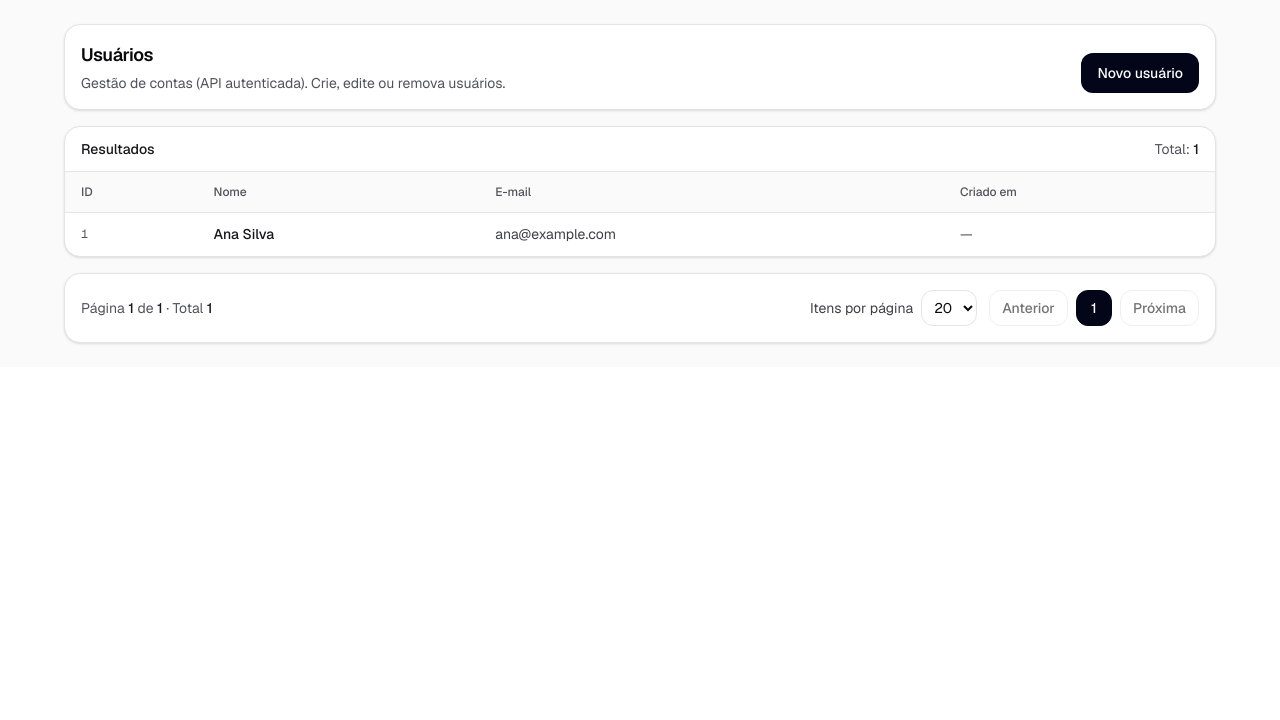
UsersPage (UI) › deve excluir usuário com confirmação
The width and height of the screenshot is (1280, 720).
Click the text "Ana Silva": (244, 234) [198,212,479,256]
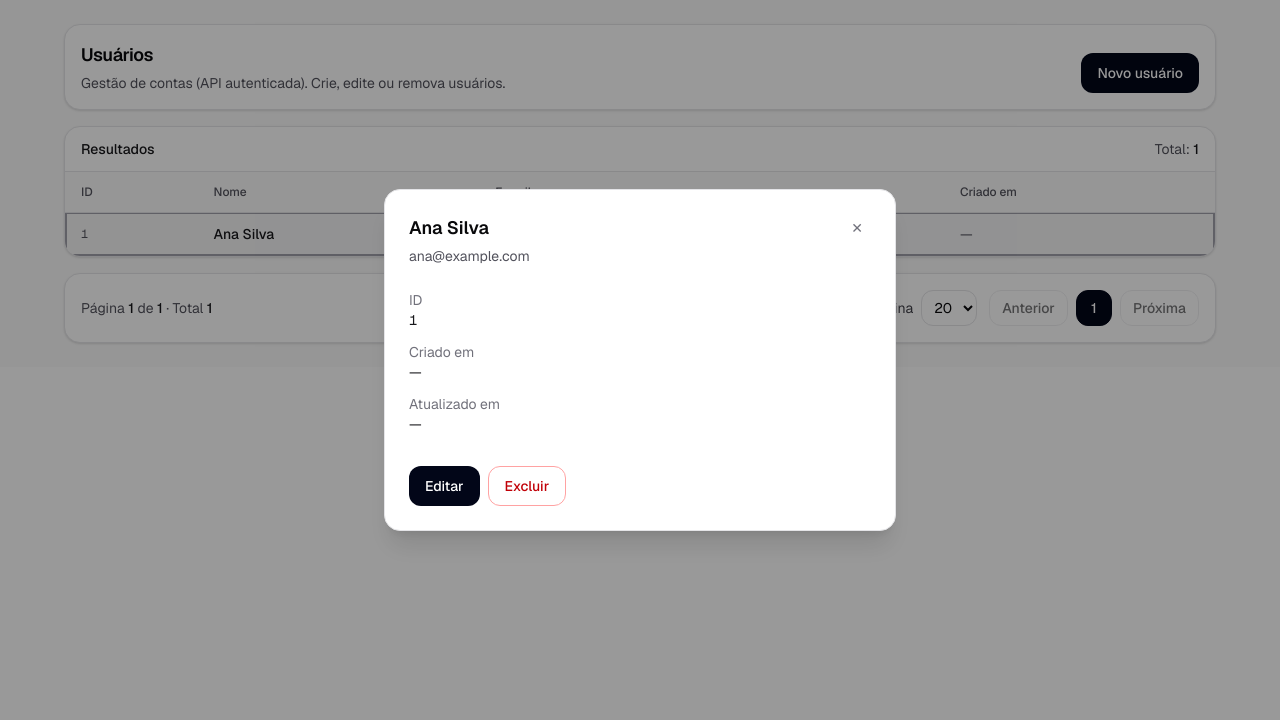
Click the button "Excluir": (527, 486) [488,466,566,506]
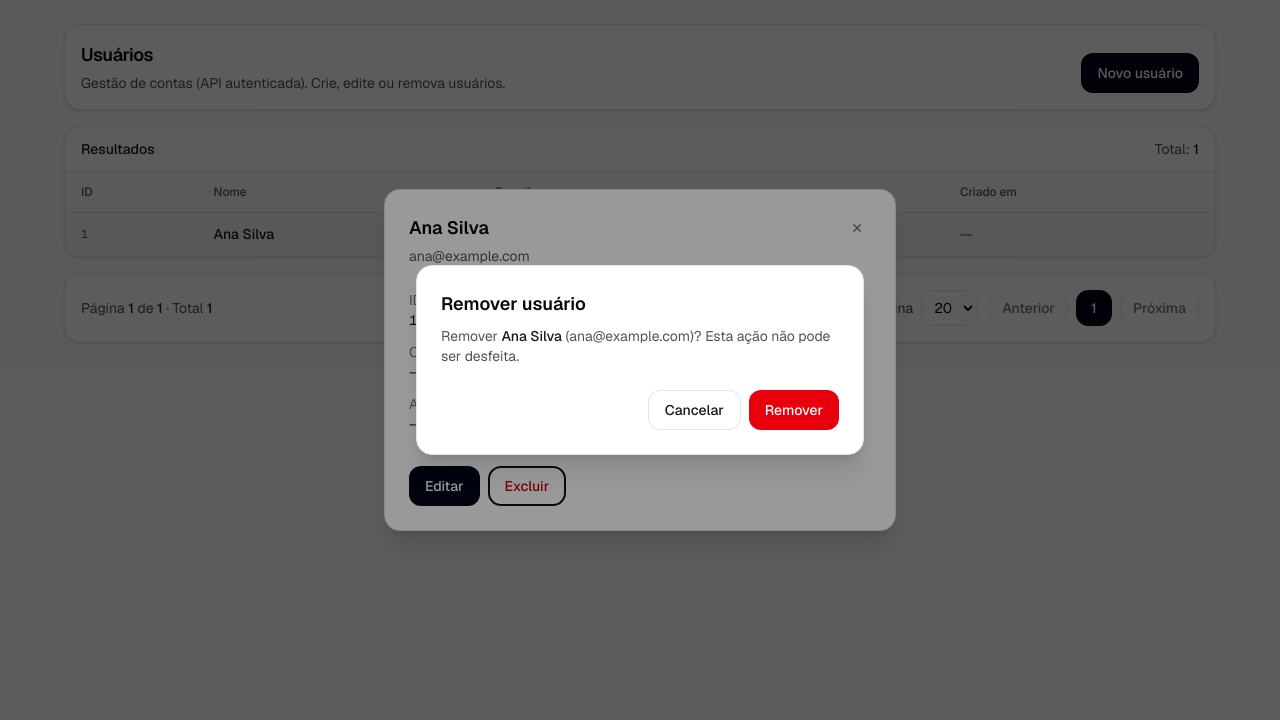
Click the button "Remover": (794, 410) [749,390,839,430]
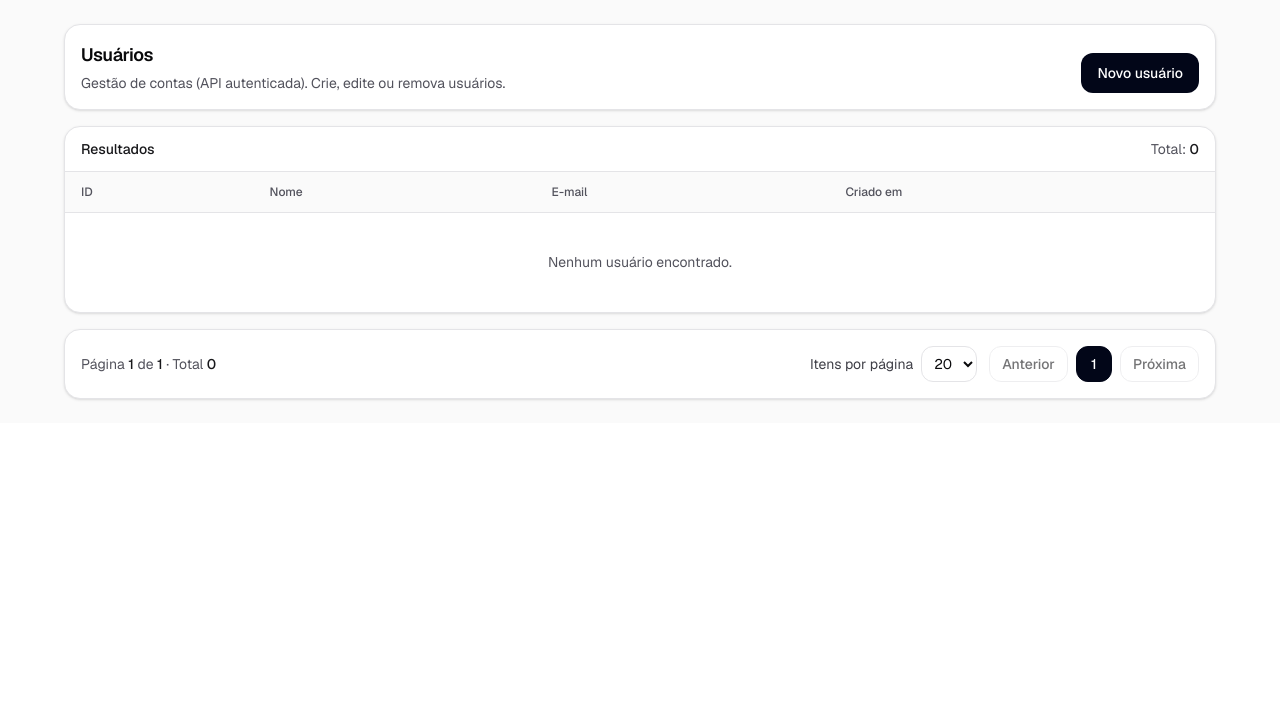
Check: the text "Ana Silva" is gone
Check: the text "Nenhum usuário encontrado." is shown, box [65,212,1215,312]
